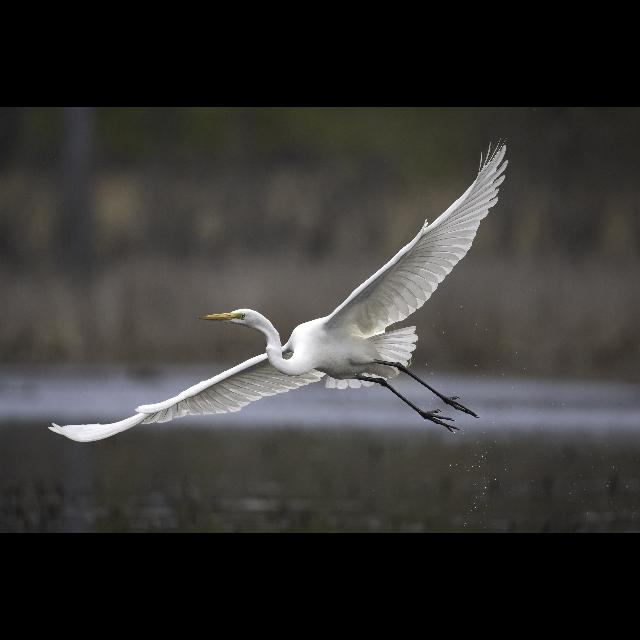egret: (45, 141, 502, 445)
